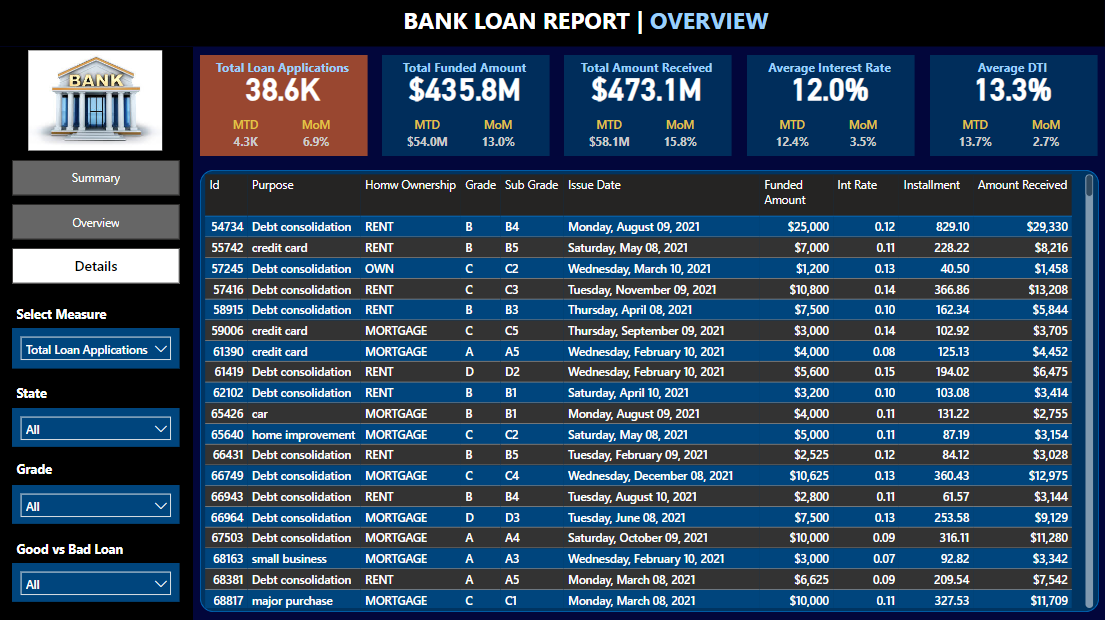

This screenshot's page, from the dashboard's own definition file:
{"tool":"powerbi","page":{"name":"Overview","canvas":[1280,720],"ordinal":1},"visuals":[{"type":"shape","box":[0,55.6,224.6,664.4],"z":0},{"type":"shape","box":[232.5,64.8,194.5,116.9],"z":0,"group":"g1"},{"type":"shape","box":[443.5,64.8,194.5,116.9],"z":0,"group":"g2"},{"type":"shape","box":[654.5,64.8,194.5,116.9],"z":0,"group":"g3"},{"type":"shape","box":[865.4,64.8,194.5,116.9],"z":0,"group":"g4"},{"type":"shape","box":[1077.3,64.8,194.5,116.9],"z":0,"group":"g5"},{"type":"card","fields":{"Values":["Measure Table.Total Loan Applications"]},"box":[235.9,78.7,184.1,45.1],"z":1000,"group":"g1"},{"type":"card","fields":{"Values":["Measure Table.Total Funded Amount"]},"box":[446.9,78.7,184.1,45.1],"z":1000,"group":"g2"},{"type":"card","fields":{"Values":["Measure Table.Total Amount Received"]},"box":[657.9,78.7,184.1,45.1],"z":1000,"group":"g3"},{"type":"card","fields":{"Values":["Measure Table.Average Interest Rate"]},"box":[868.8,78.7,184.1,45.1],"z":1000,"group":"g4"},{"type":"card","fields":{"Values":["Measure Table.Average DTI"]},"box":[1080.7,78.7,184.1,45.1],"z":1000,"group":"g5"},{"type":"shape","box":[233,190.6,405,235],"z":1000},{"type":"shape","box":[0,0,1280,55],"z":2000},{"type":"textbox","box":[229,64.8,197.9,32.4],"z":2000,"group":"g1"},{"type":"textbox","box":[440,64.8,197.9,32.4],"z":2000,"group":"g2"},{"type":"textbox","box":[651,64.8,197.9,32.4],"z":2000,"group":"g3"},{"type":"textbox","box":[861.9,64.8,197.9,32.4],"z":2000,"group":"g4"},{"type":"textbox","box":[1073.8,64.8,197.9,32.4],"z":2000,"group":"g5"},{"type":"textbox","box":[462.7,1.3,447.2,50.1],"z":3000},{"type":"card","title":"MTD","fields":{"Values":["Measure Table.MTD Loan Applications"]},"box":[260.3,136.6,49.8,45.1],"z":3000,"group":"g1"},{"type":"card","title":"MTD","fields":{"Values":["Measure Table.MTD Funded Amount"]},"box":[464.5,136.8,62.5,45.6],"z":3000,"group":"g2"},{"type":"card","title":"MTD","fields":{"Values":["Measure Table.MTD Total Amount Received"]},"box":[675.5,136.8,62.5,45.6],"z":3000,"group":"g3"},{"type":"card","title":"MTD","fields":{"Values":["Measure Table.MTD Average Interest Rate"]},"box":[886.4,136.8,62.5,45.6],"z":3000,"group":"g4"},{"type":"card","title":"MTD","fields":{"Values":["Measure Table.MTD Average DTI"]},"box":[1098.3,136.8,62.5,45.6],"z":3000,"group":"g5"},{"type":"group","id":"g1","title":"Total Loan Applications Card","box":[229,64.8,197.9,115.9],"z":4000},{"type":"card","title":"MoM","fields":{"Values":["Measure Table.MoM Loan Application"]},"box":[341,136.8,50.8,44.3],"z":4000,"group":"g1"},{"type":"card","title":"MoM","fields":{"Values":["Measure Table.MoM Total Funded Amount"]},"box":[552,136.8,50.8,44.3],"z":4000,"group":"g2"},{"type":"card","title":"MoM","fields":{"Values":["Measure Table.MoM Total Amount Received"]},"box":[763,136.8,50.8,44.3],"z":4000,"group":"g3"},{"type":"card","title":"MoM","fields":{"Values":["Measure Table.MoM Average Interest Rate"]},"box":[973.9,136.8,50.8,44.3],"z":4000,"group":"g4"},{"type":"card","title":"MoM","fields":{"Values":["Measure Table.MoM Average DTI"]},"box":[1185.8,136.8,50.8,44.3],"z":4000,"group":"g5"},{"type":"group","id":"g2","title":"Total Funded Amount","box":[440,64.8,197.9,117.6],"z":5000},{"type":"group","id":"g3","title":"Total Amount Received","box":[651,64.8,197.9,117.2],"z":6000},{"type":"group","id":"g4","title":"Average Interest Rate","box":[861.9,64.8,198.8,117.4],"z":7000},{"type":"group","id":"g5","title":"DTI","box":[1073.8,64.8,198.8,117.4],"z":8000},{"type":"slicer","fields":{"Values":["bank_loan_data.address_state"]},"box":[15.6,473,194.5,45.1],"z":9000},{"type":"textbox","box":[15.6,440.6,57.9,31.3],"z":10000},{"type":"slicer","fields":{"Values":["bank_loan_data.grade"]},"box":[15.6,562.1,194.5,45.1],"z":11000},{"type":"slicer","fields":{"Values":["bank_loan_data.Good Loan vs Bad Loan"]},"box":[15.6,652.4,194.5,45.1],"z":12000},{"type":"textbox","box":[15.6,528.5,66,31.3],"z":13000},{"type":"textbox","box":[15.6,621.1,160.9,31.3],"z":14000},{"type":"areaChart","fields":{"Y":["Summary Measure Table.Total Loan Applications"],"Category":["Date Table.Month"]},"box":[239.1,204,391.9,217.5],"z":15000},{"type":"slicer","fields":{"Values":["Select Measure.Select Measure"]},"box":[15.6,380.4,194.5,47.5],"z":16000},{"type":"textbox","box":[15.6,349.1,132,31.3],"z":17000},{"type":"group","id":"g6","title":"Group 1","box":[654,193.3,383.2,237.3],"z":18000},{"type":"shape","box":[654,194.3,360,236.1],"z":18000,"group":"g6"},{"type":"shapeMap","fields":{"Value":["Summary Measure Table.Total Loan Applications"],"Category":["bank_loan_data.address_state"]},"box":[678.2,193.3,359.4,235.7],"z":19000,"group":"g6"},{"type":"shape","box":[657.6,442.7,359.4,264.3],"z":19000},{"type":"shape","box":[1024.4,192.2,248.9,235],"z":20000},{"type":"donutChart","fields":{"Y":["Summary Measure Table.Total Loan Applications"],"Category":["bank_loan_data.term"]},"box":[1024.8,192.7,255.2,231.8],"z":21000},{"type":"shape","box":[232.7,443.3,405.1,263.9],"z":22000},{"type":"barChart","fields":{"Y":["Summary Measure Table.Total Loan Applications"],"Category":["bank_loan_data.emp_length"]},"box":[229.2,442.7,408.9,264.3],"z":23000},{"type":"barChart","fields":{"Y":["Summary Measure Table.Total Loan Applications"],"Category":["bank_loan_data.purpose"]},"box":[650.5,443.3,360,265.1],"z":24000},{"type":"shape","box":[1027.4,442.7,248.7,264.3],"z":25000},{"type":"treemap","fields":{"Values":["Summary Measure Table.Total Loan Applications"],"Group":["bank_loan_data.home_ownership"]},"box":[1027.9,443.3,245.4,262.8],"z":26000},{"type":"pageNavigator","box":[15.6,186.2,194,145.8],"z":27000},{"type":"image","box":[14.3,54.7,195.3,126.3],"z":28000}]}

Visuals, with their boxes in screenshot pixels (x1, y1, x2, y2), scaled from the page's 1280x720 canvas onto the 1105x620 screenshot:
shape: bbox(0, 48, 194, 619)
shape: bbox(201, 56, 369, 156)
shape: bbox(383, 56, 551, 156)
shape: bbox(565, 56, 733, 156)
shape: bbox(747, 56, 915, 156)
shape: bbox(930, 56, 1098, 156)
card - Measure Table.Total Loan Applications: bbox(204, 68, 363, 107)
card - Measure Table.Total Funded Amount: bbox(386, 68, 545, 107)
card - Measure Table.Total Amount Received: bbox(568, 68, 727, 107)
card - Measure Table.Average Interest Rate: bbox(750, 68, 909, 107)
card - Measure Table.Average DTI: bbox(933, 68, 1092, 107)
shape: bbox(201, 164, 551, 366)
shape: bbox(0, 0, 1104, 47)
textbox: bbox(198, 56, 369, 84)
textbox: bbox(380, 56, 551, 84)
textbox: bbox(562, 56, 733, 84)
textbox: bbox(744, 56, 915, 84)
textbox: bbox(927, 56, 1098, 84)
textbox: bbox(399, 1, 785, 44)
"MTD" card: bbox(225, 118, 268, 156)
"MTD" card: bbox(401, 118, 455, 157)
"MTD" card: bbox(583, 118, 637, 157)
"MTD" card: bbox(765, 118, 819, 157)
"MTD" card: bbox(948, 118, 1002, 157)
"Total Loan Applications Card" group: bbox(198, 56, 369, 156)
"MoM" card: bbox(294, 118, 338, 156)
"MoM" card: bbox(477, 118, 520, 156)
"MoM" card: bbox(659, 118, 703, 156)
"MoM" card: bbox(841, 118, 885, 156)
"MoM" card: bbox(1024, 118, 1068, 156)
"Total Funded Amount" group: bbox(380, 56, 551, 157)
"Total Amount Received" group: bbox(562, 56, 733, 157)
"Average Interest Rate" group: bbox(744, 56, 916, 157)
"DTI" group: bbox(927, 56, 1099, 157)
slicer - bank_loan_data.address_state: bbox(13, 407, 181, 446)
textbox: bbox(13, 379, 63, 406)
slicer - bank_loan_data.grade: bbox(13, 484, 181, 523)
slicer - bank_loan_data.Good Loan vs Bad Loan: bbox(13, 562, 181, 601)
textbox: bbox(13, 455, 70, 482)
textbox: bbox(13, 535, 152, 562)
areaChart - Summary Measure Table.Total Loan Applications x Date Table.Month: bbox(206, 176, 545, 363)
slicer - Select Measure.Select Measure: bbox(13, 328, 181, 368)
textbox: bbox(13, 301, 127, 328)
"Group 1" group: bbox(565, 166, 895, 371)
shape: bbox(565, 167, 875, 371)
shapeMap - Summary Measure Table.Total Loan Applications x bank_loan_data.address_state: bbox(585, 166, 896, 369)
shape: bbox(568, 381, 878, 609)
shape: bbox(884, 166, 1099, 368)
donutChart - Summary Measure Table.Total Loan Applications x bank_loan_data.term: bbox(885, 166, 1104, 366)
shape: bbox(201, 382, 551, 609)
barChart - Summary Measure Table.Total Loan Applications x bank_loan_data.emp_length: bbox(198, 381, 551, 609)
barChart - Summary Measure Table.Total Loan Applications x bank_loan_data.purpose: bbox(562, 382, 872, 610)
shape: bbox(887, 381, 1102, 609)
treemap - Summary Measure Table.Total Loan Applications x bank_loan_data.home_ownership: bbox(887, 382, 1099, 608)
pageNavigator: bbox(13, 160, 181, 286)
image: bbox(12, 47, 181, 156)
